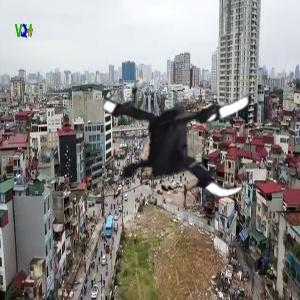drone: (81, 47, 264, 230)
